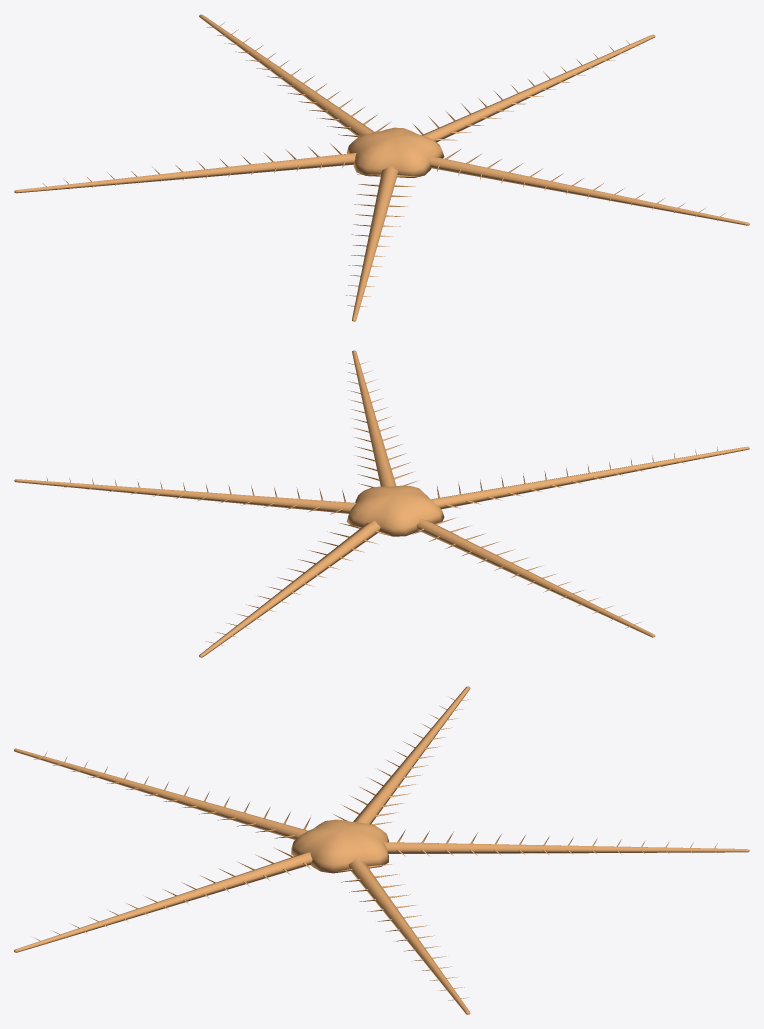
File: starfish_brittle_game.glb
3 renders of one model, top to bottom at view 1: azimuth 30°, elevation 25°; view 2: azimuth 150°, elevation 25°; view 3: azimuth 270°, elevation 25°, orthographic. The views are drawn at different scales.
Parts seen in each view (by area): view 1: starfish_brittle_game; view 2: starfish_brittle_game; view 3: starfish_brittle_game.
Part boxes in pixels (x1=…): starfish_brittle_game: x1=14, y1=14, x2=749, y2=321; starfish_brittle_game: x1=14, y1=350, x2=749, y2=657; starfish_brittle_game: x1=14, y1=686, x2=749, y2=1014.
Size of the model in its own units: 0.1902 by 0.0062 by 0.1809.
